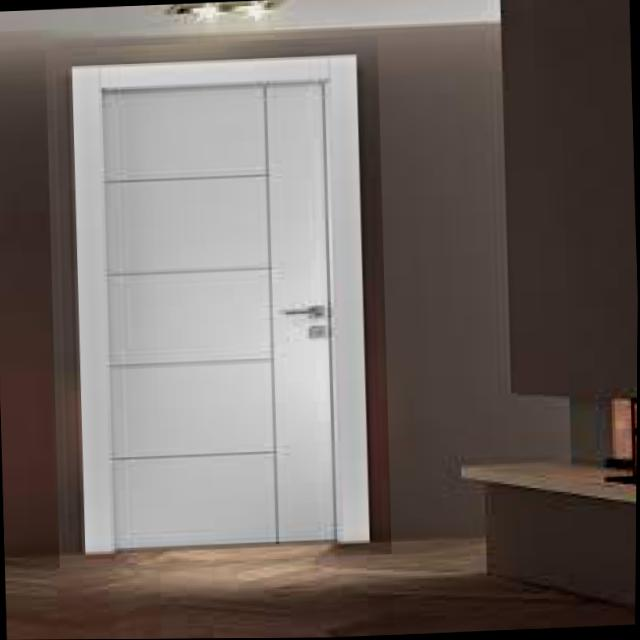close: (42, 36, 396, 569)
